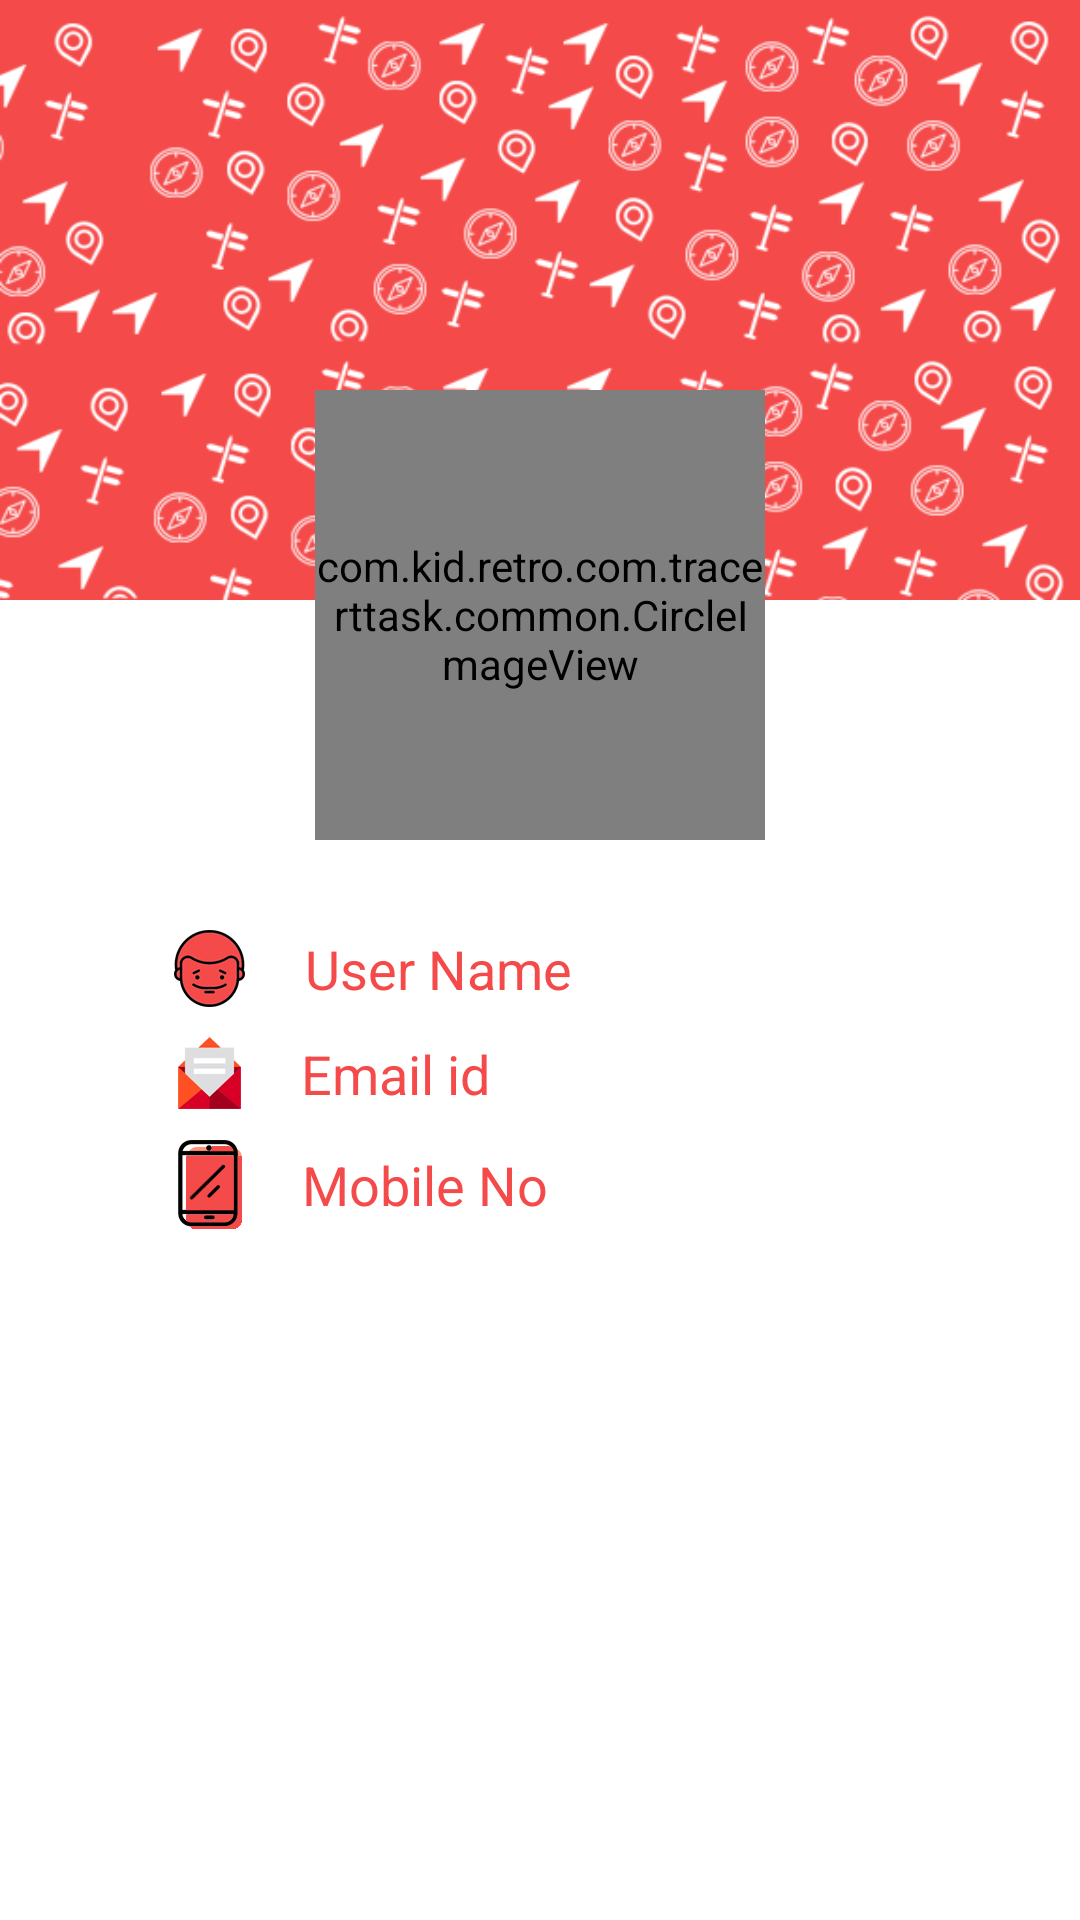

Where to tap for icons on this 1080 x 1920 app screen, as [x,y]:
mob no: [210,1184]
user mail: [209,1073]
